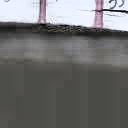crackTip: (74, 5, 128, 15)
